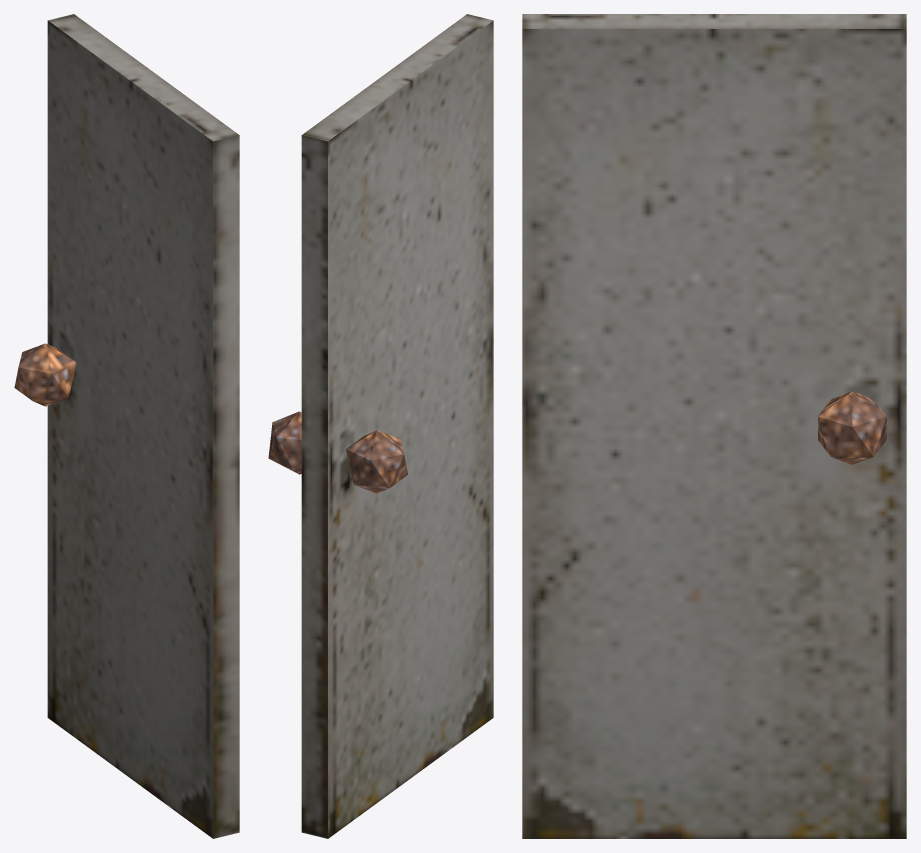
Rendered from model_door_old.glb.
3 renders of one model, left to right at view 1: azimuth 30°, elevation 25°; view 2: azimuth 150°, elevation 25°; view 3: azimuth 270°, elevation 25°, orthographic. The views are drawn at different scales.
Visible parts, largest first — view 1: Door, Knob; view 2: Door, Knob; view 3: Door, Knob.
Part boxes in pixels (left/top/right/bottom): Door: left=47, top=14, right=239, bottom=838; Knob: left=14, top=343, right=76, bottom=406; Door: left=301, top=14, right=493, bottom=838; Knob: left=268, top=411, right=407, bottom=493; Door: left=522, top=14, right=906, bottom=838; Knob: left=818, top=391, right=886, bottom=464.
Size of the model in its own units: 0.494 by 2.5 by 1.07.
Materials: 2 (2 with a texture image).
